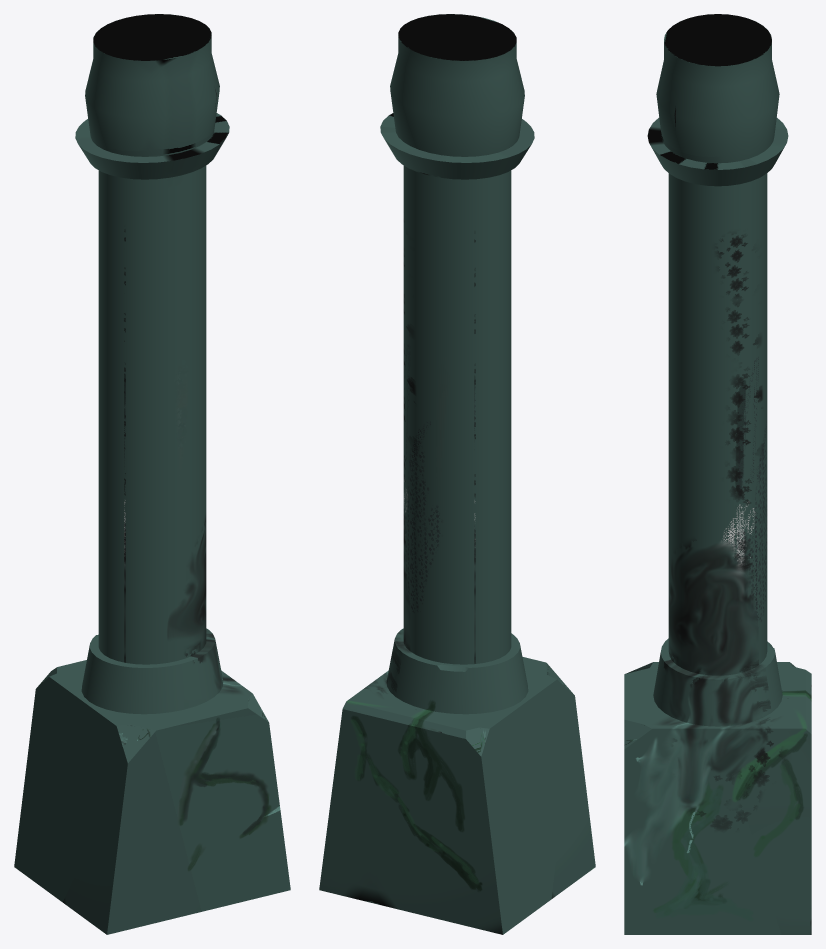
Rendered from Pillar1.fbx.
The picture shows the model from 3 angles, left to right: view 1: azimuth 30°, elevation 25°; view 2: azimuth 150°, elevation 25°; view 3: azimuth 270°, elevation 25°; orthographic projection.
Parts seen in each view (by area): view 1: Low Poly; view 2: Low Poly; view 3: Low Poly.
Boxes of the visible parts, x1,y1,x2,y2 form: Low Poly: [14, 14, 290, 934]; Low Poly: [319, 14, 595, 934]; Low Poly: [624, 14, 811, 934].
Size of the model in its own units: 462 by 2021 by 405.
